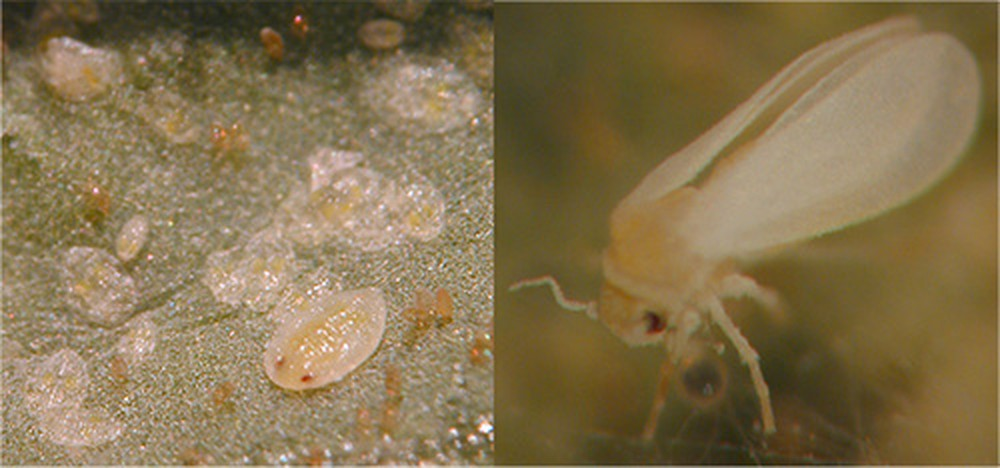Mosca Blanca: (538, 15, 992, 424)
